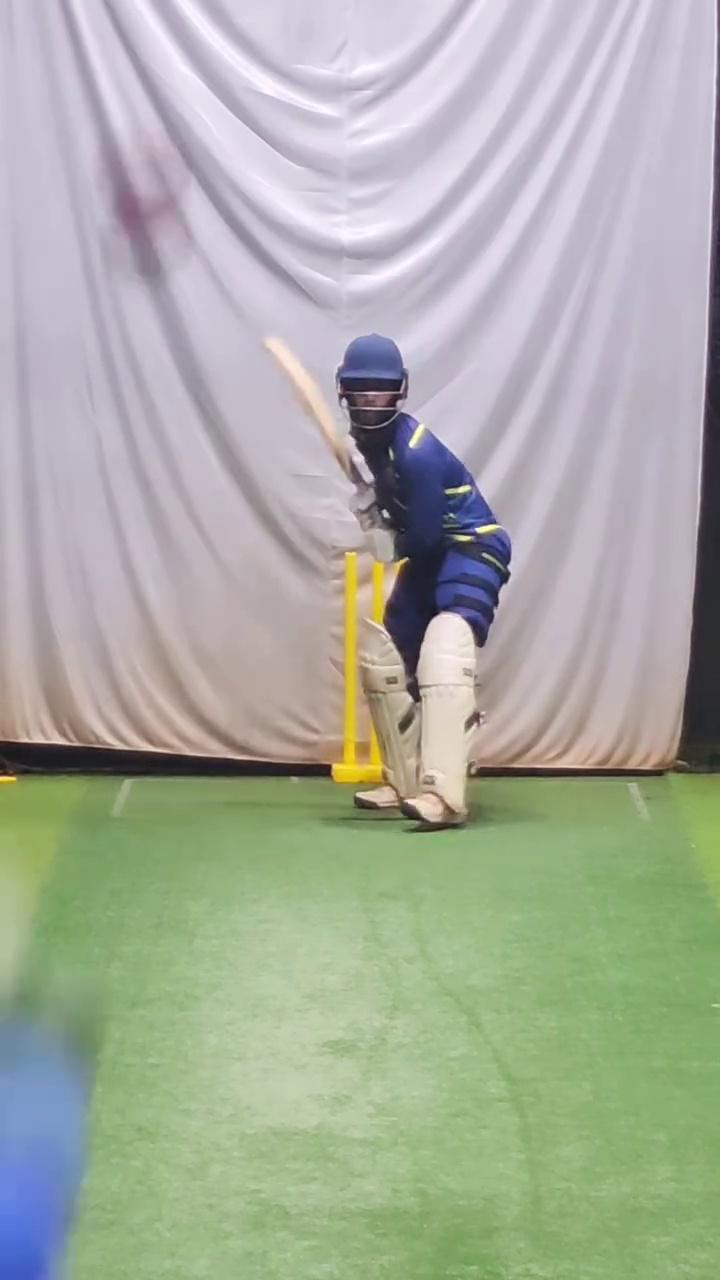bat: (255, 325, 371, 494)
